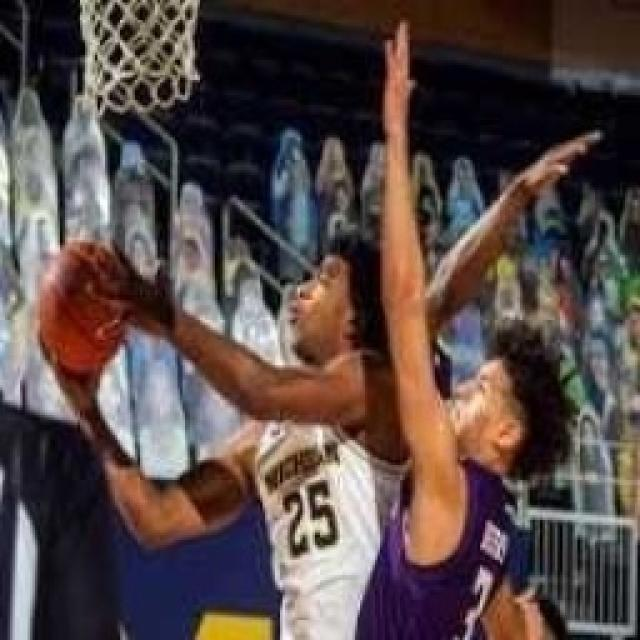rim: (35, 238, 128, 372)
